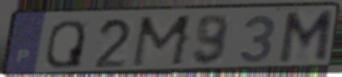2: (90, 17, 136, 70)
3: (238, 13, 278, 65)
9: (191, 12, 229, 67)
M: (129, 13, 197, 70), (275, 8, 336, 66)
Q: (44, 18, 88, 70)
